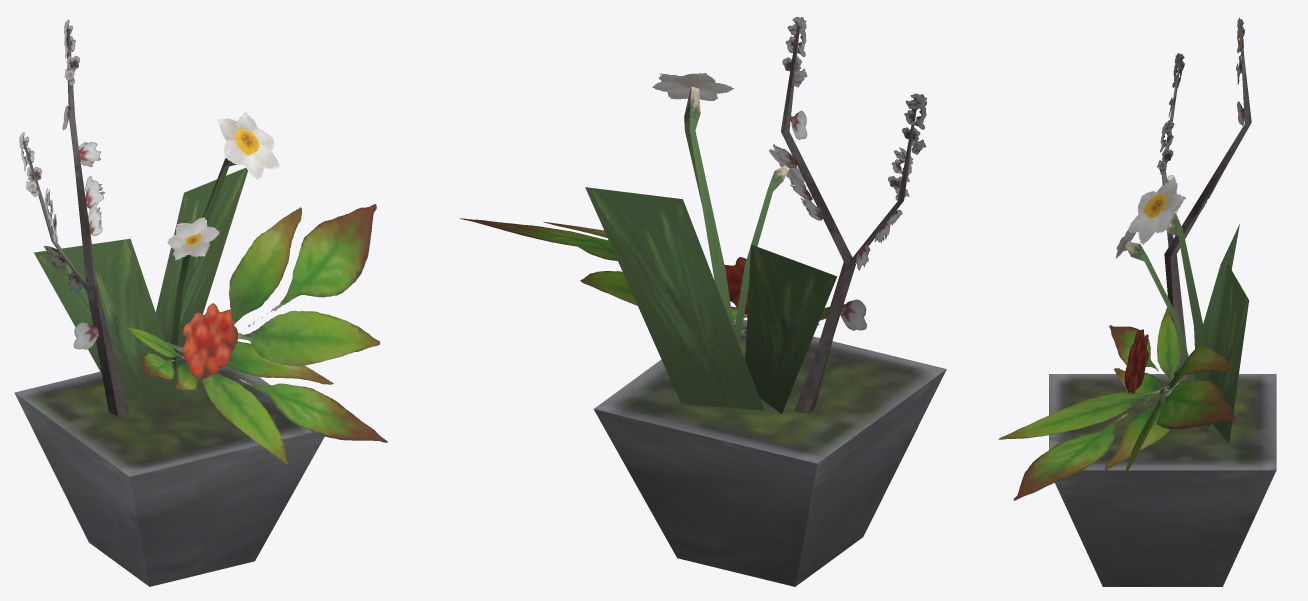
Rendered from FlowerArrange01.fbx.
The picture shows the model from 3 angles, left to right: view 1: azimuth 30°, elevation 25°; view 2: azimuth 150°, elevation 25°; view 3: azimuth 270°, elevation 25°; orthographic projection. The views are drawn at different scales.
Parts seen in each view (by area): view 1: FlowerArrange01; view 2: FlowerArrange01; view 3: FlowerArrange01.
Part boxes in pixels (x1,y1,x2,y2): FlowerArrange01: (14, 19, 387, 586); FlowerArrange01: (459, 17, 946, 586); FlowerArrange01: (998, 17, 1276, 586).
Size of the model in its own units: 75.31 by 89.75 by 50.38.
3 materials, 3 textured.
